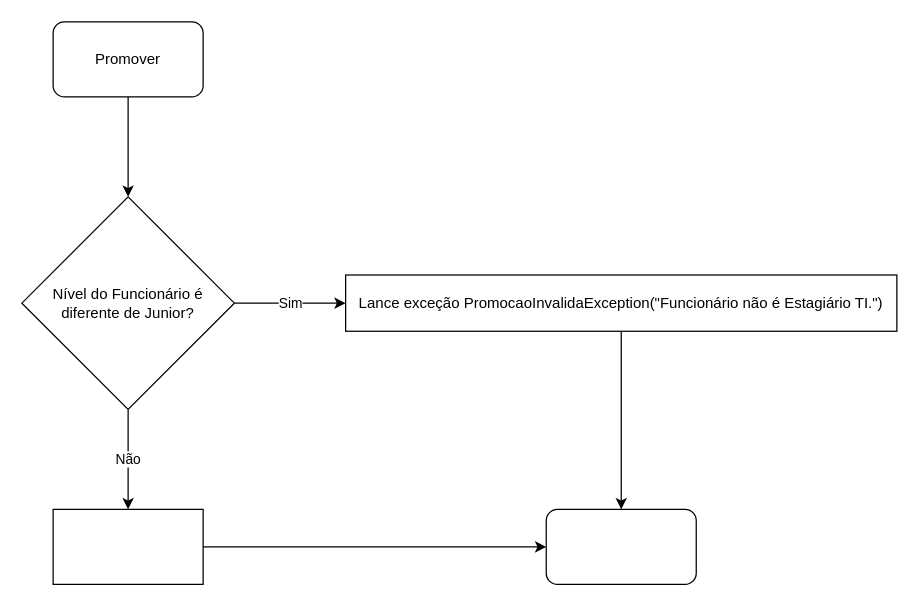
This 919x606 diagram has some shape labels left out. The shapes that lost their labels are listed below. From the top down, each one's centre as x and y in pixels, then its label:
At point 127,546: "Atribui promoção às tarefas concluídas".
At point 620,546: "Fim".
